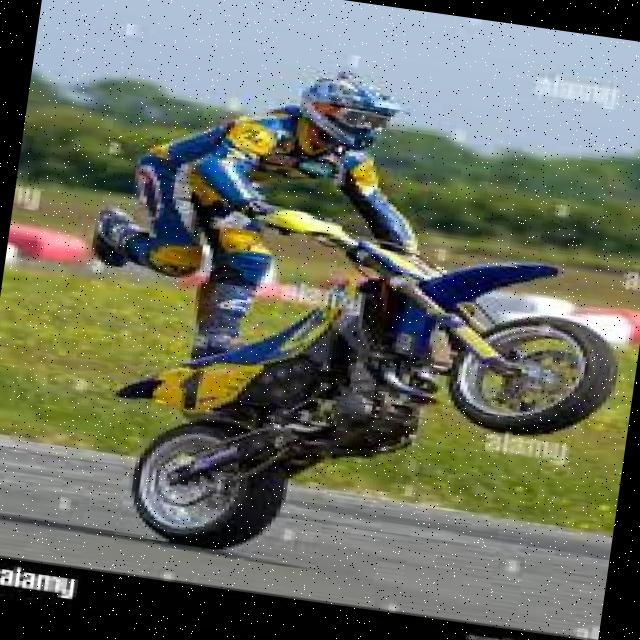Wheeling: (61, 16, 640, 597)
